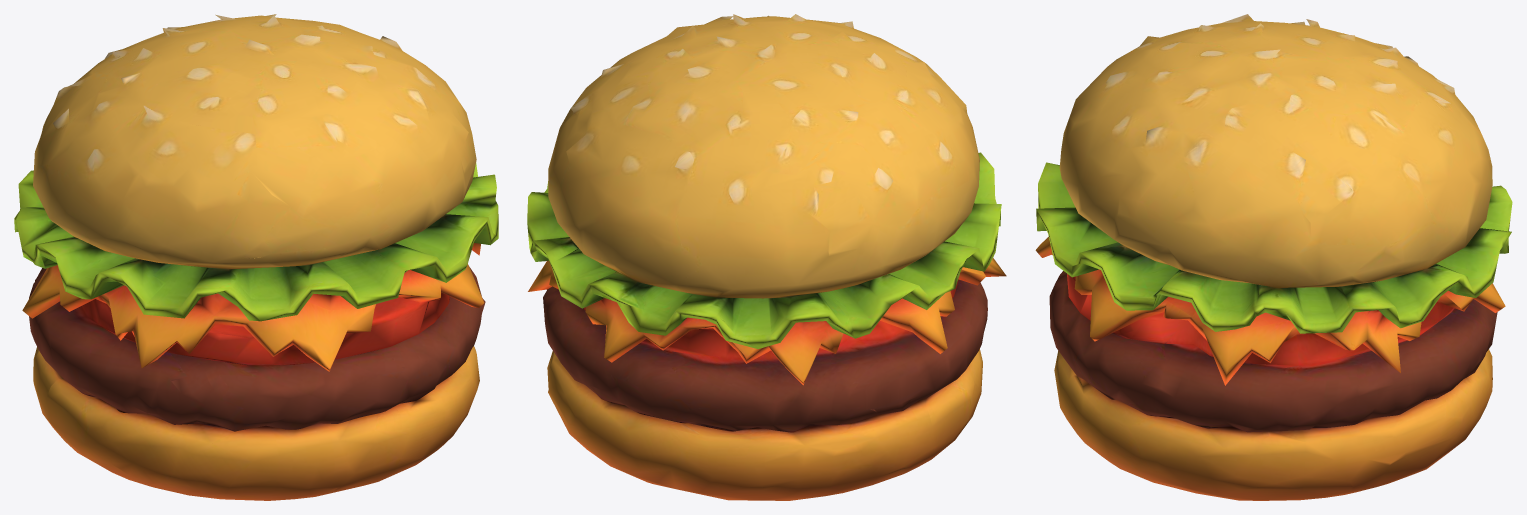
Rendered from Hamburguer.glb.
3 views of the same model, side by side, from view 1: azimuth 30°, elevation 25°; view 2: azimuth 150°, elevation 25°; view 3: azimuth 270°, elevation 25° (orthographic). The views are drawn at different scales.
Visible parts, largest first — view 1: tripo_node_7954bc01-23bc-49d7-878d-3e778557cada; view 2: tripo_node_7954bc01-23bc-49d7-878d-3e778557cada; view 3: tripo_node_7954bc01-23bc-49d7-878d-3e778557cada.
Part boxes in pixels (x1,y1,x2,y2): tripo_node_7954bc01-23bc-49d7-878d-3e778557cada: (14,14,498,500); tripo_node_7954bc01-23bc-49d7-878d-3e778557cada: (527,14,1006,500); tripo_node_7954bc01-23bc-49d7-878d-3e778557cada: (1035,14,1512,500).
Bounding box in the file's own units: 0.166 × 0.15 × 0.1658.
Materials: 1 (1 with a texture image).
